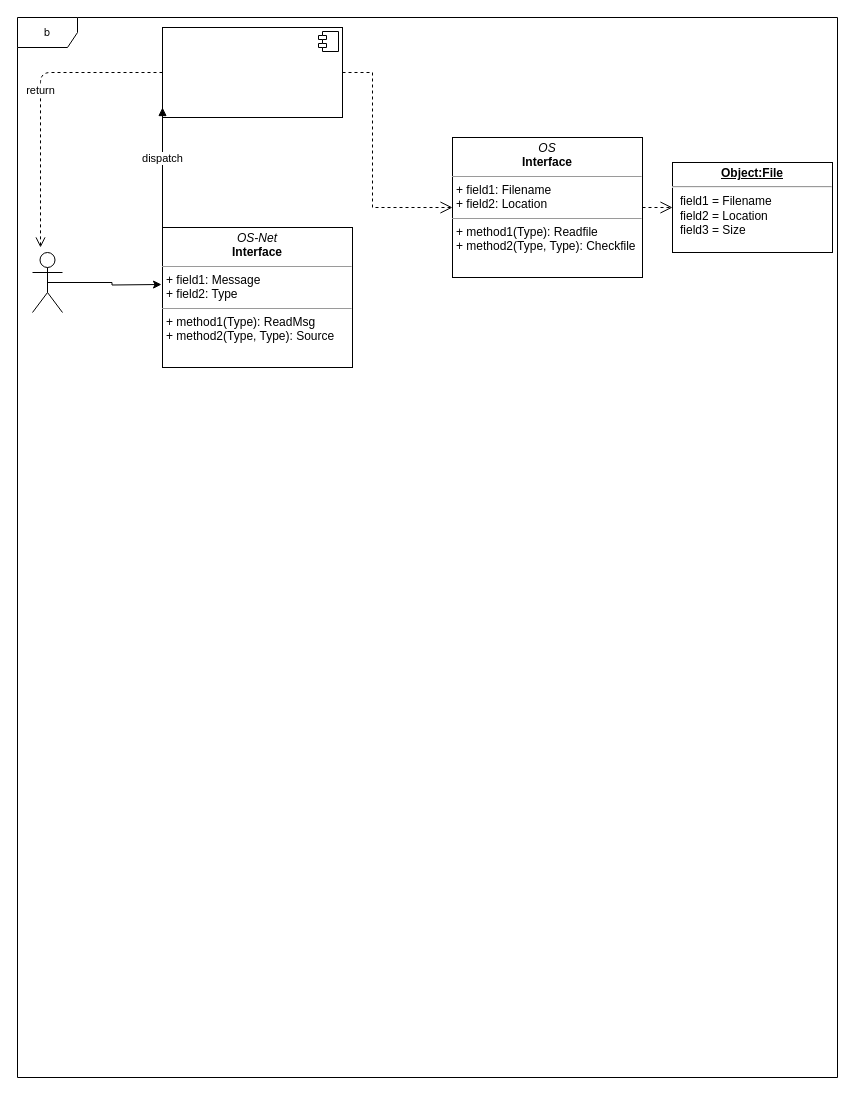
Image size: 855x1095. Some labels were removed from this diagram. The shapes that lost their labels are listed below. From the top down, each one's box as (x1, y1, x2, y2) in pixels, then its label:
(162, 26, 342, 118): Component: web server. + Attribute1: Read file + Attribute2: Post Webpage
(32, 252, 62, 312): Actor
